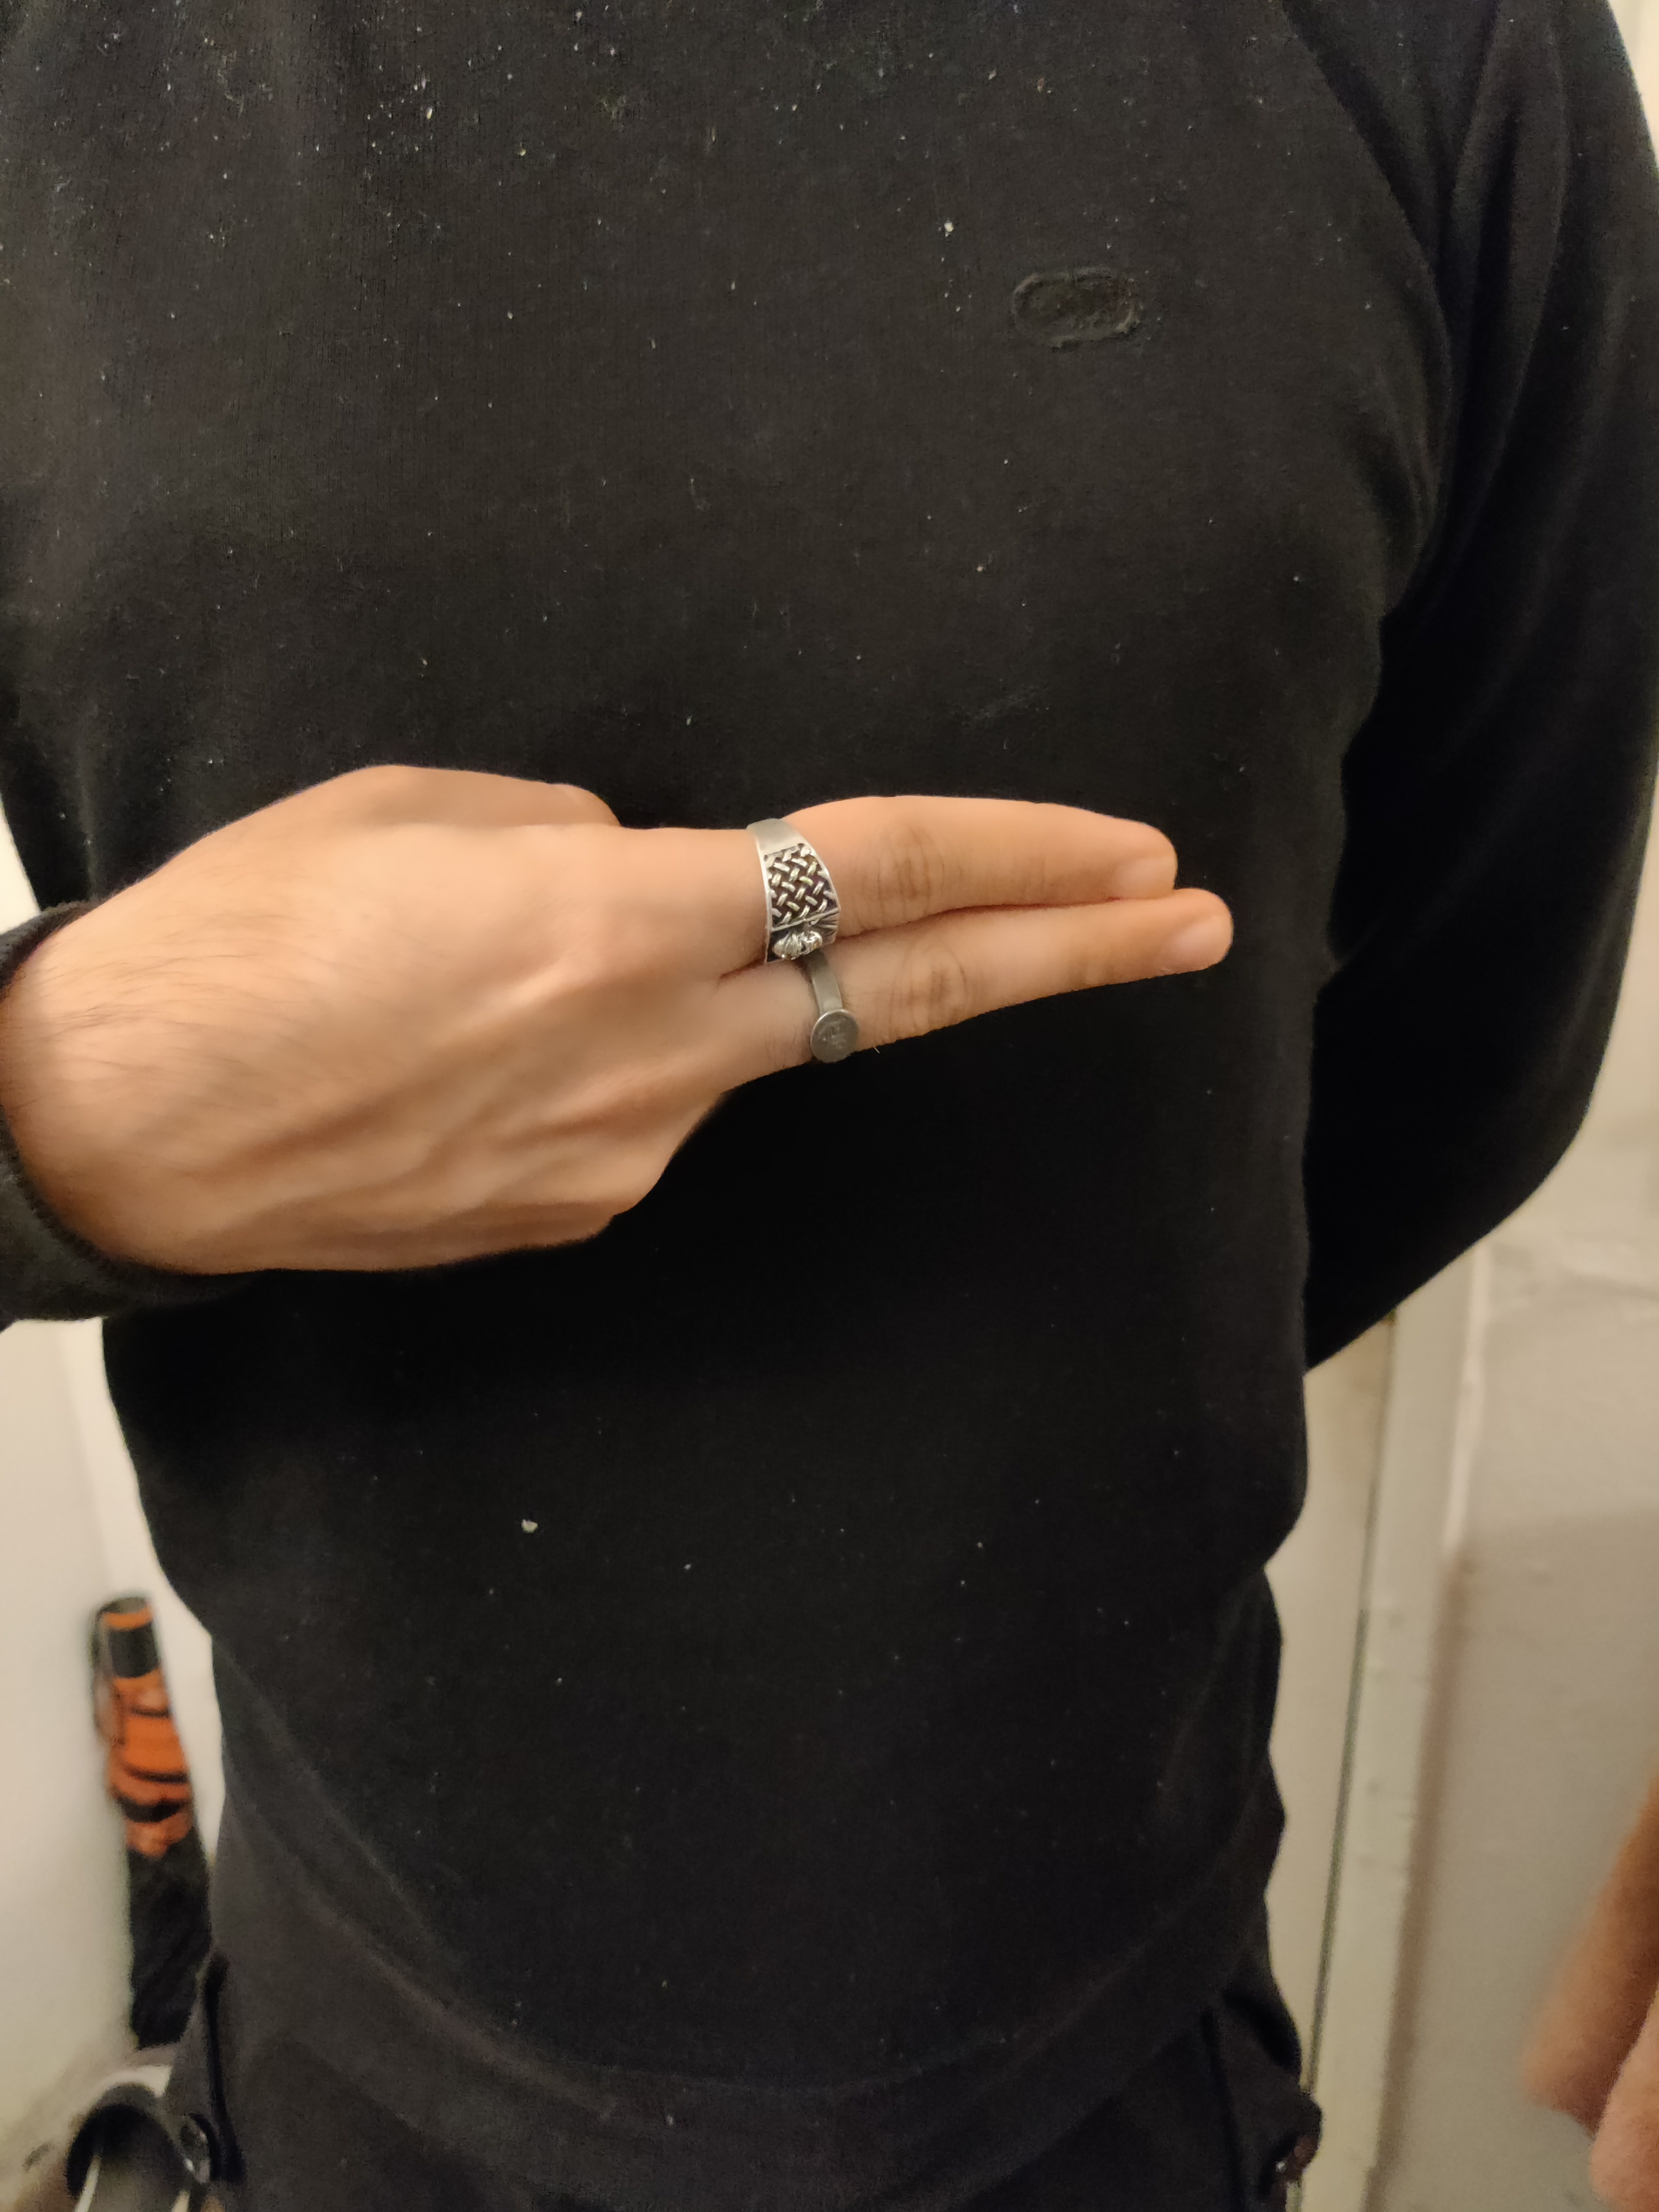left: (10, 437, 1370, 1395)
